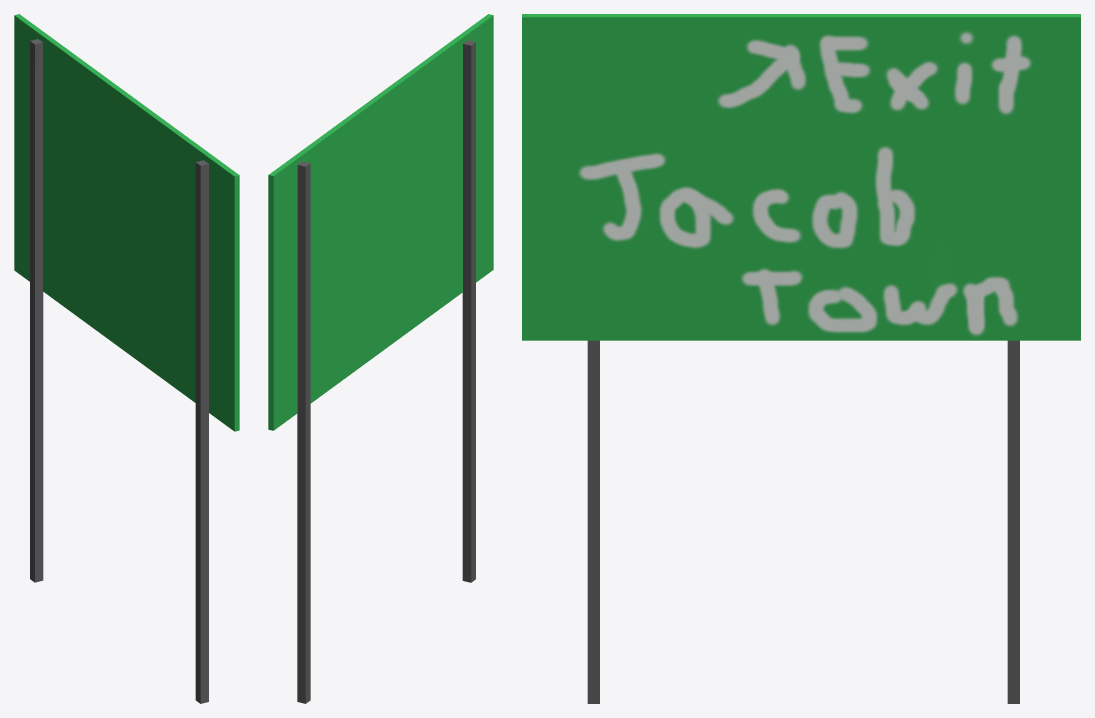
Rendered from exit.dae.
3 renders of one model, left to right at view 1: azimuth 30°, elevation 25°; view 2: azimuth 150°, elevation 25°; view 3: azimuth 270°, elevation 25°, orthographic. The views are drawn at different scales.
Parts seen in each view (by area): view 1: Cube_001; view 2: Cube_001; view 3: Cube_001.
Part boxes in pixels (<box>): Cube_001: <box>14,14,239,703</box>; Cube_001: <box>268,14,493,703</box>; Cube_001: <box>522,14,1080,703</box>.
Size of the model in its own units: 0.0386 by 1.1 by 1.5.
Materials: 1 (1 with a texture image).
